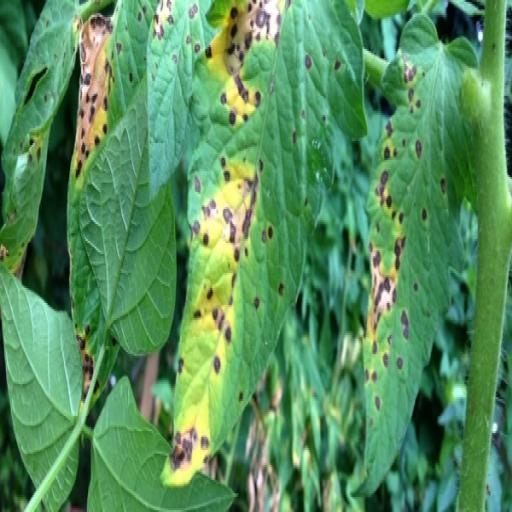disease_tomato: (160, 2, 338, 491), (360, 19, 482, 499), (0, 0, 80, 282), (142, 0, 216, 202)
